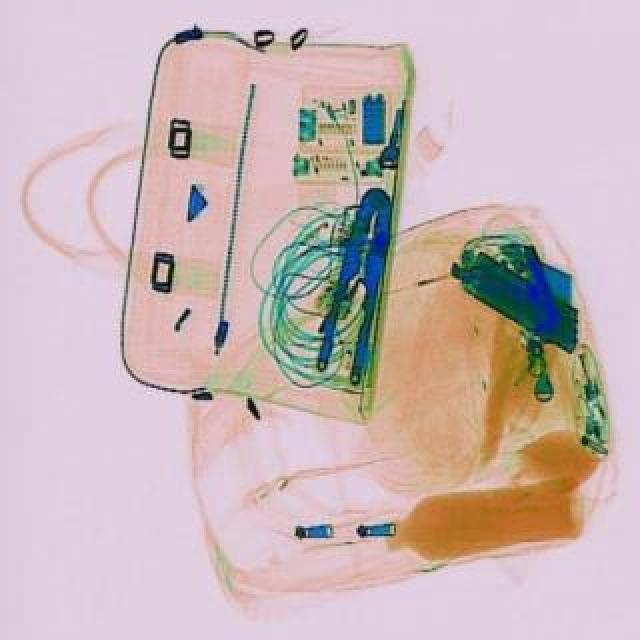wrench: (312, 184, 400, 386)
